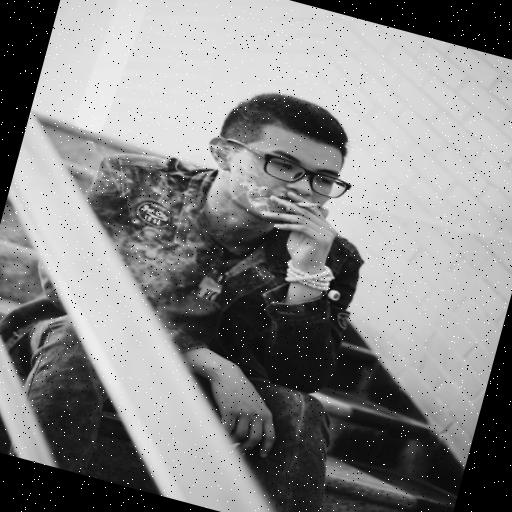terdeteksi merokok: (229, 134, 352, 256)
